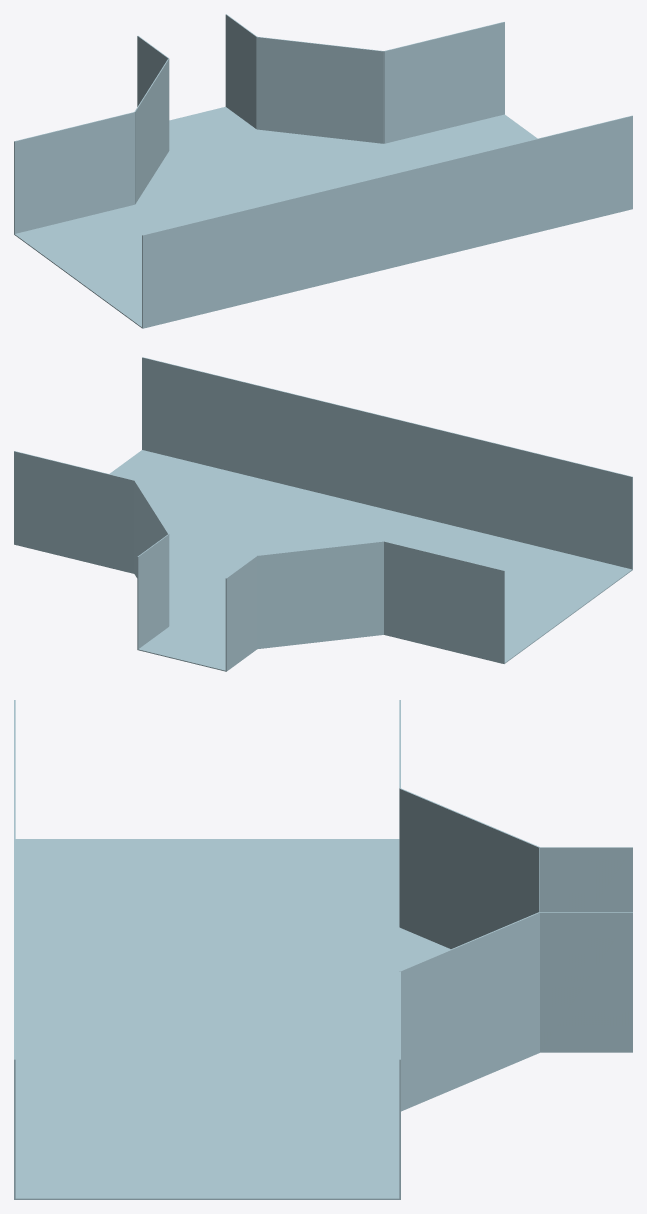
The picture shows the model from 3 angles, top to bottom: view 1: azimuth 30°, elevation 25°; view 2: azimuth 150°, elevation 25°; view 3: azimuth 270°, elevation 25°; orthographic projection. The views are drawn at different scales.
Parts seen in each view (by area): view 1: L3-C06; view 2: L3-C06; view 3: L3-C06.
Boxes of the visible parts, <box> form: L3-C06: <box>14,14,632,328</box>; L3-C06: <box>14,357,632,671</box>; L3-C06: <box>14,700,632,1199</box>.
Bounding box in the file's own units: 1.1 × 0.2 × 0.8.
